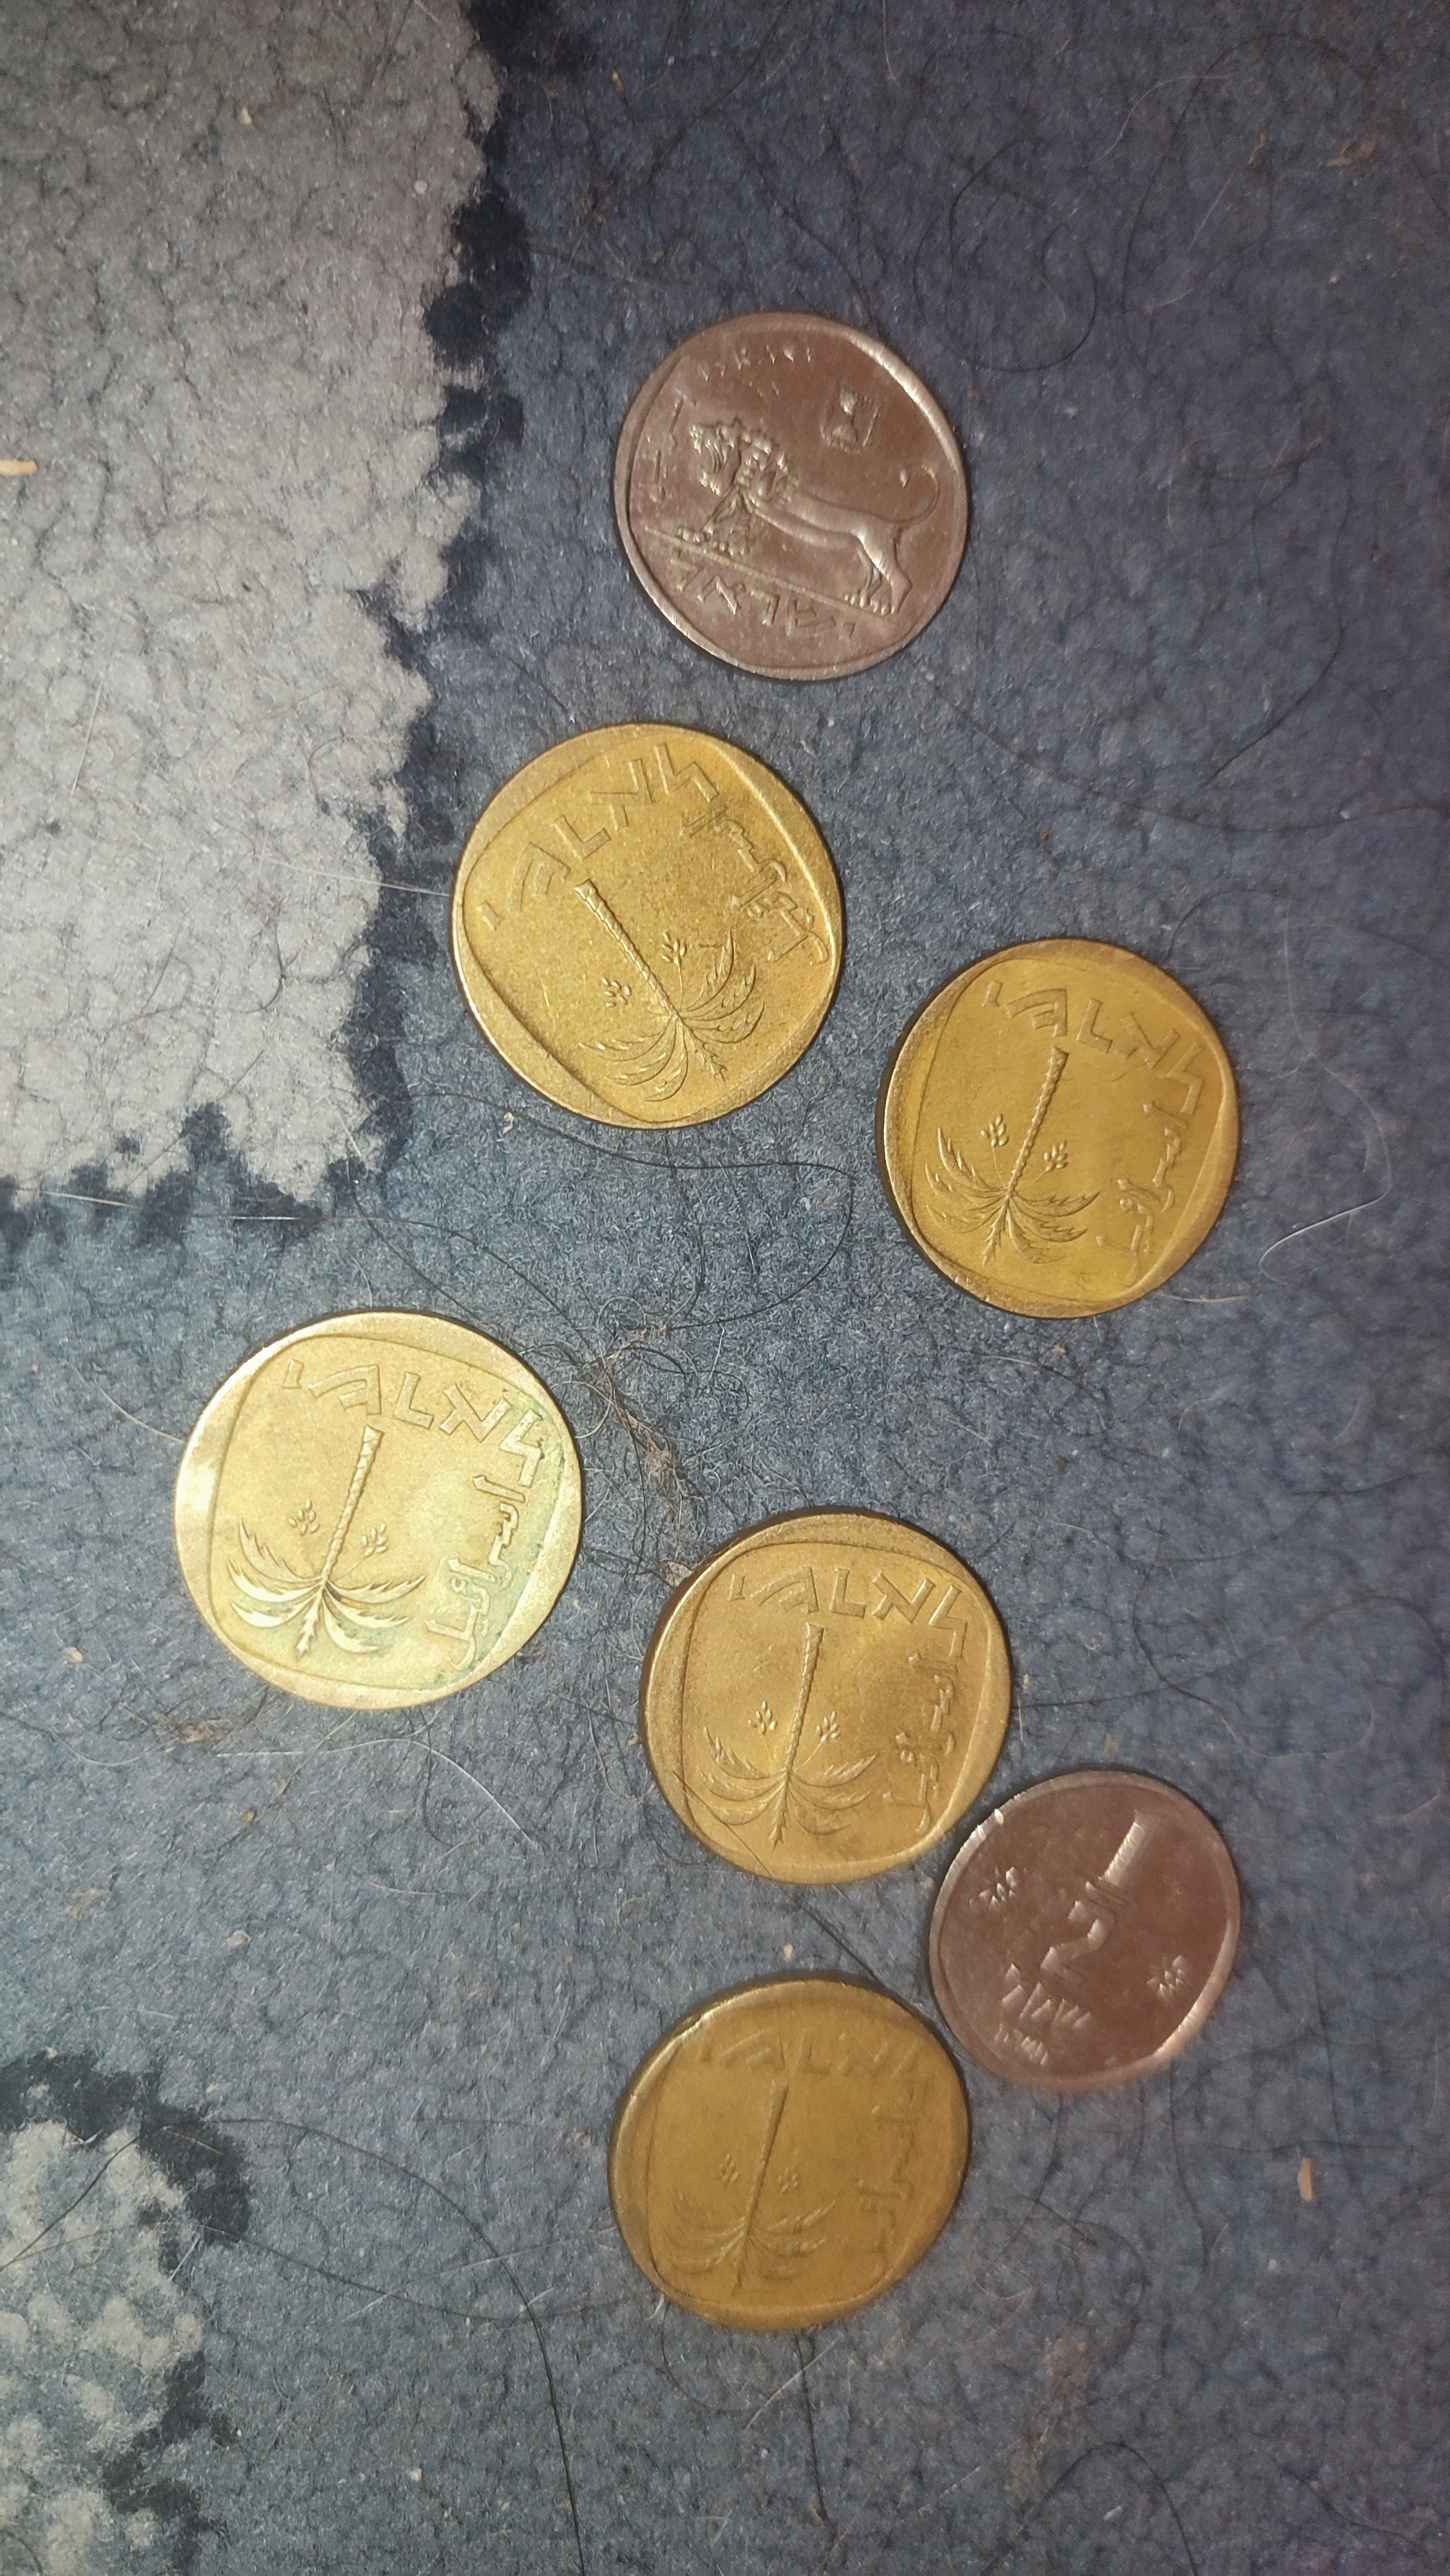1/2 old sheqel: (605, 303, 974, 692), (918, 1762, 1248, 2104)
10 old agora brown: (442, 708, 865, 1141), (163, 1300, 591, 1721), (633, 1500, 1019, 1888), (870, 936, 1245, 1329), (601, 1955, 976, 2344)
